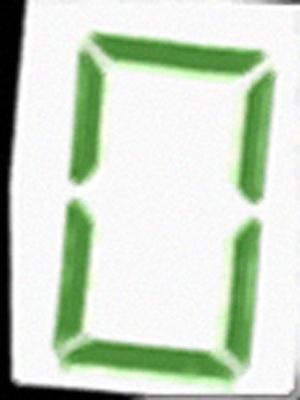zero: (5, 5, 295, 395)
